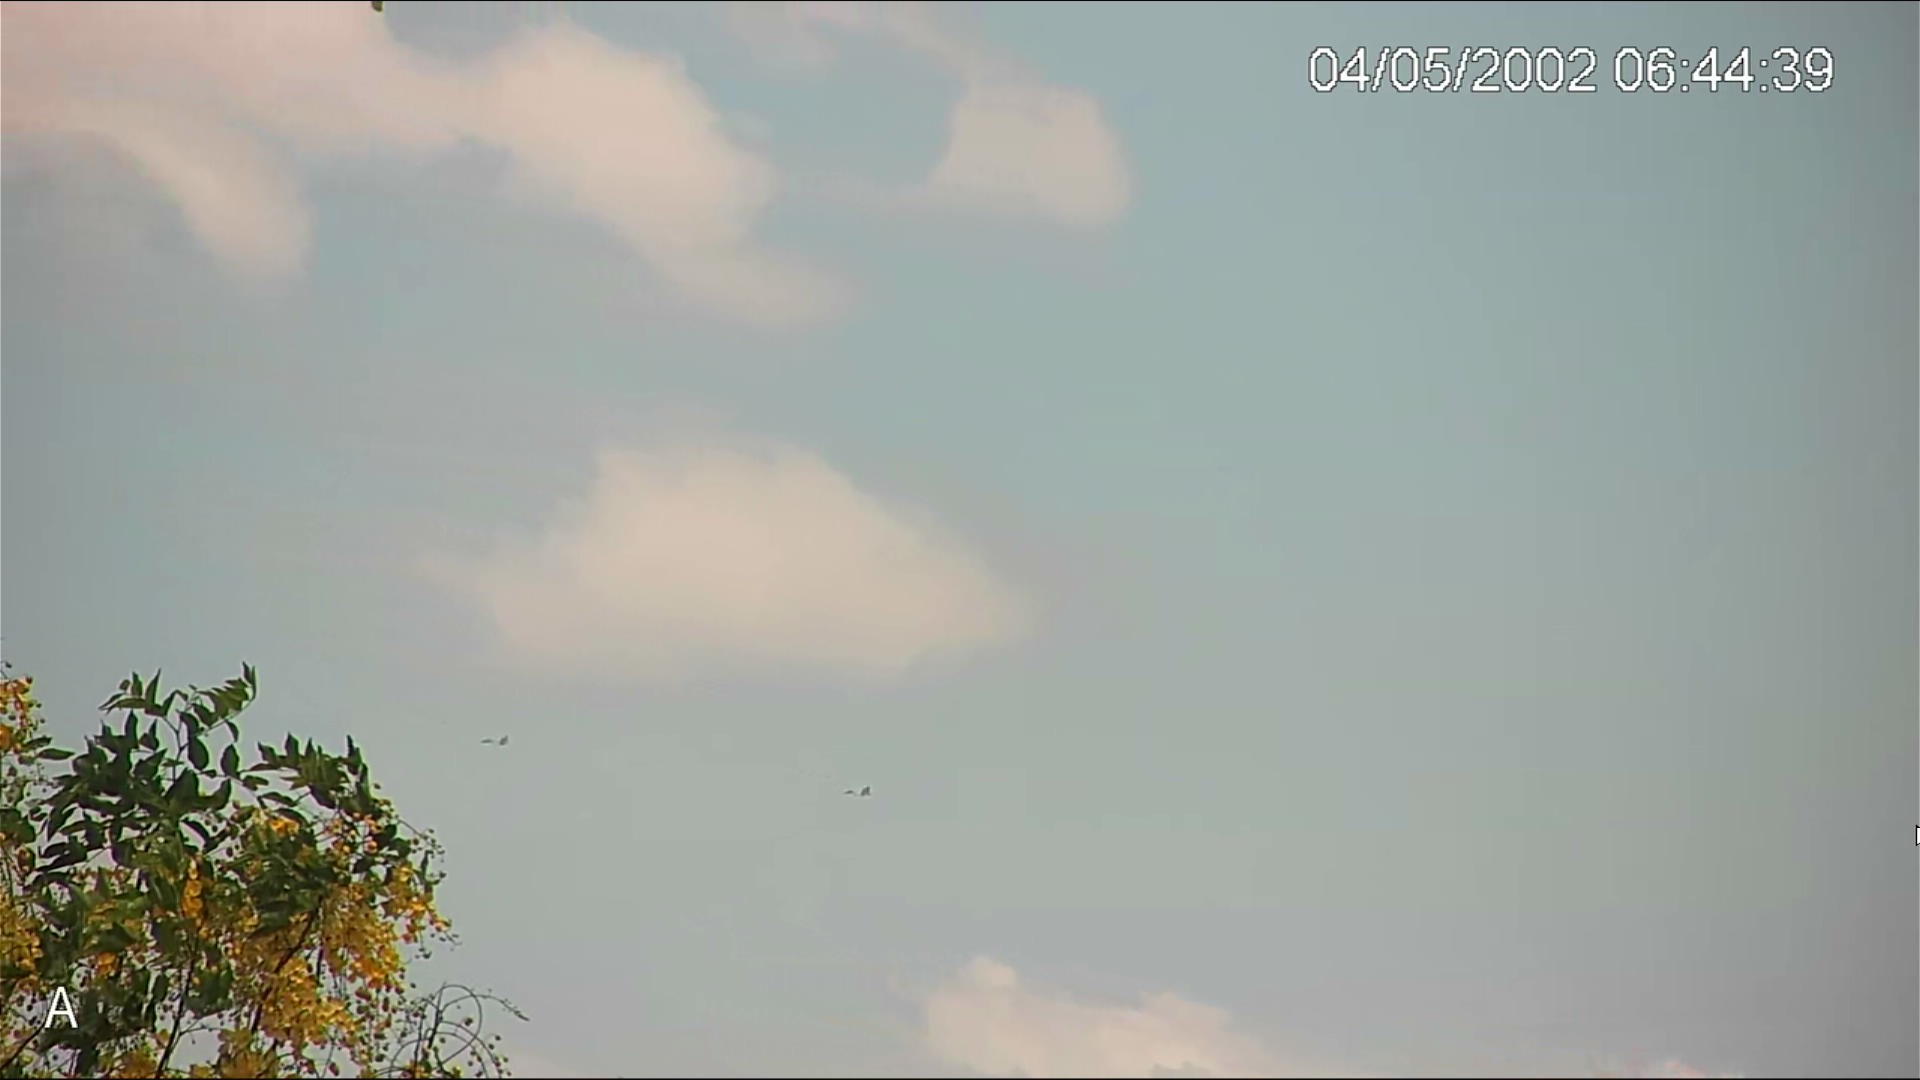SU_30: (839, 783, 872, 799), (479, 732, 509, 749)
